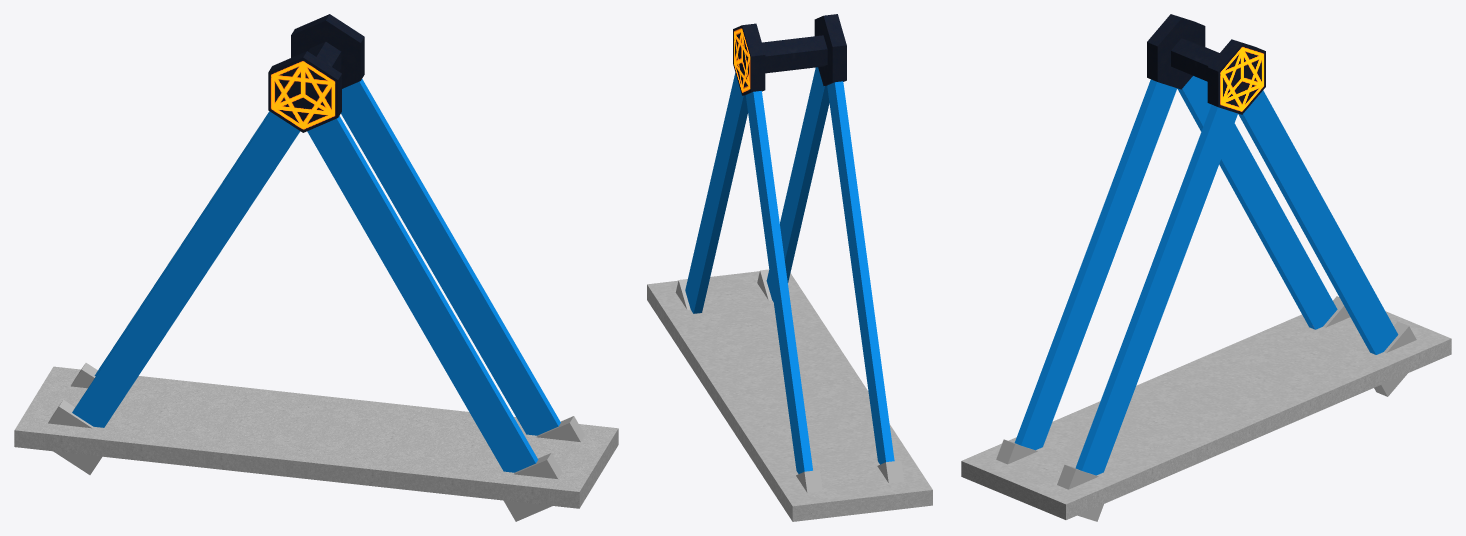
Rendered from 3P_FerrisSupport.glb.
3 views of the same model, side by side, from view 1: azimuth 30°, elevation 25°; view 2: azimuth 150°, elevation 25°; view 3: azimuth 270°, elevation 25° (orthographic). The views are drawn at different scales.
Parts seen in each view (by area): view 1: FerrisWheel; view 2: FerrisWheel; view 3: FerrisWheel.
Part boxes in pixels (bbox=[...]): FerrisWheel: bbox=[14, 14, 618, 521]; FerrisWheel: bbox=[647, 14, 932, 521]; FerrisWheel: bbox=[961, 14, 1451, 521].
Bounding box in the file's own units: 6.32 × 5.86 × 6.26.
Materials: 1 (1 with a texture image).
